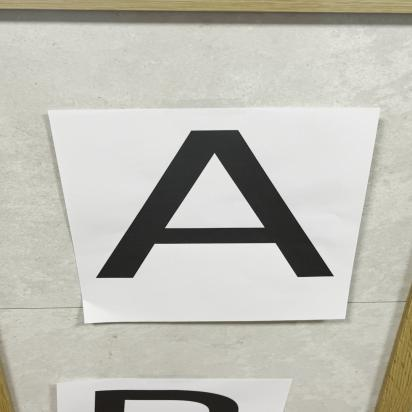seat: (80, 122, 344, 310)
